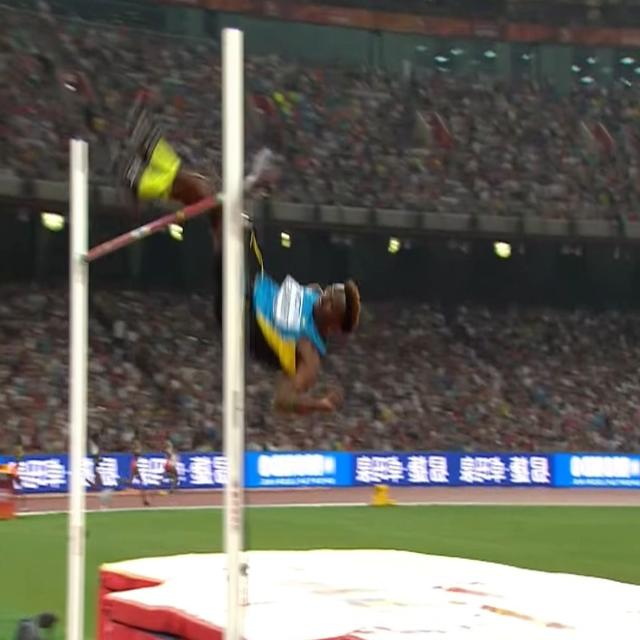land: (120, 104, 361, 415)
